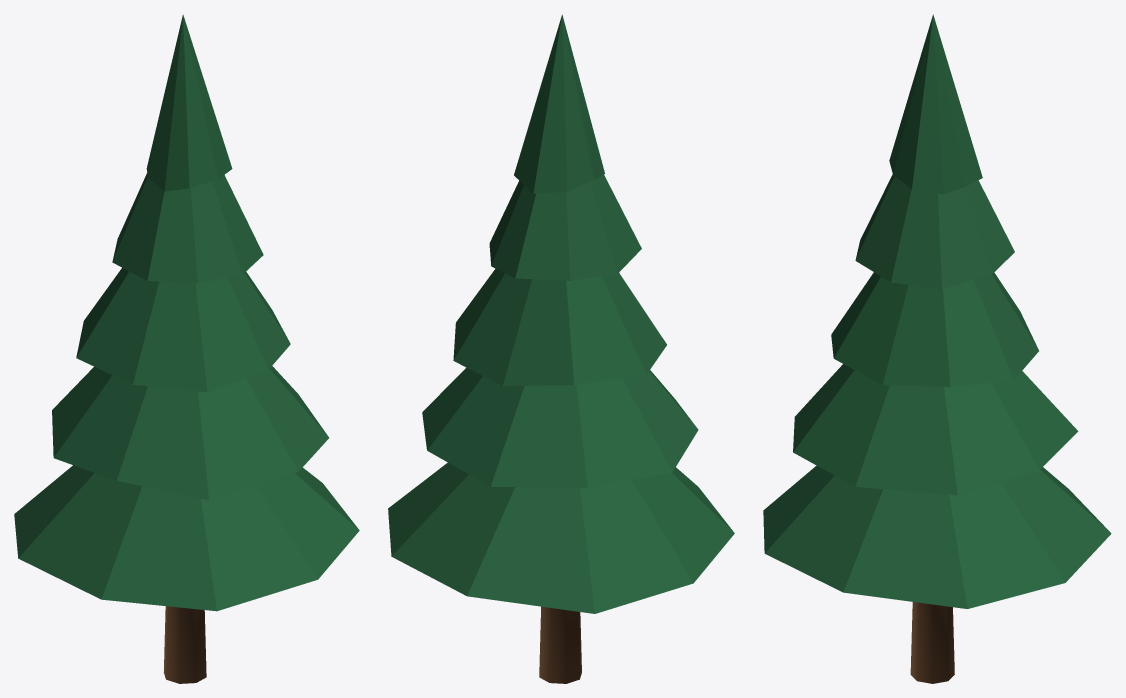
File: tree_pine.glb
3 renders of one model, left to right at view 1: azimuth 30°, elevation 25°; view 2: azimuth 150°, elevation 25°; view 3: azimuth 270°, elevation 25°, orthographic.
Visible parts, largest first — view 1: TreePine; view 2: TreePine; view 3: TreePine.
Boxes of the visible parts, box(x1,y1,x2,y2) form: TreePine: box(14, 14, 359, 683); TreePine: box(388, 14, 734, 683); TreePine: box(763, 14, 1111, 683).
Bounding box in the file's own units: 3.18 × 6.59 × 3.15.
